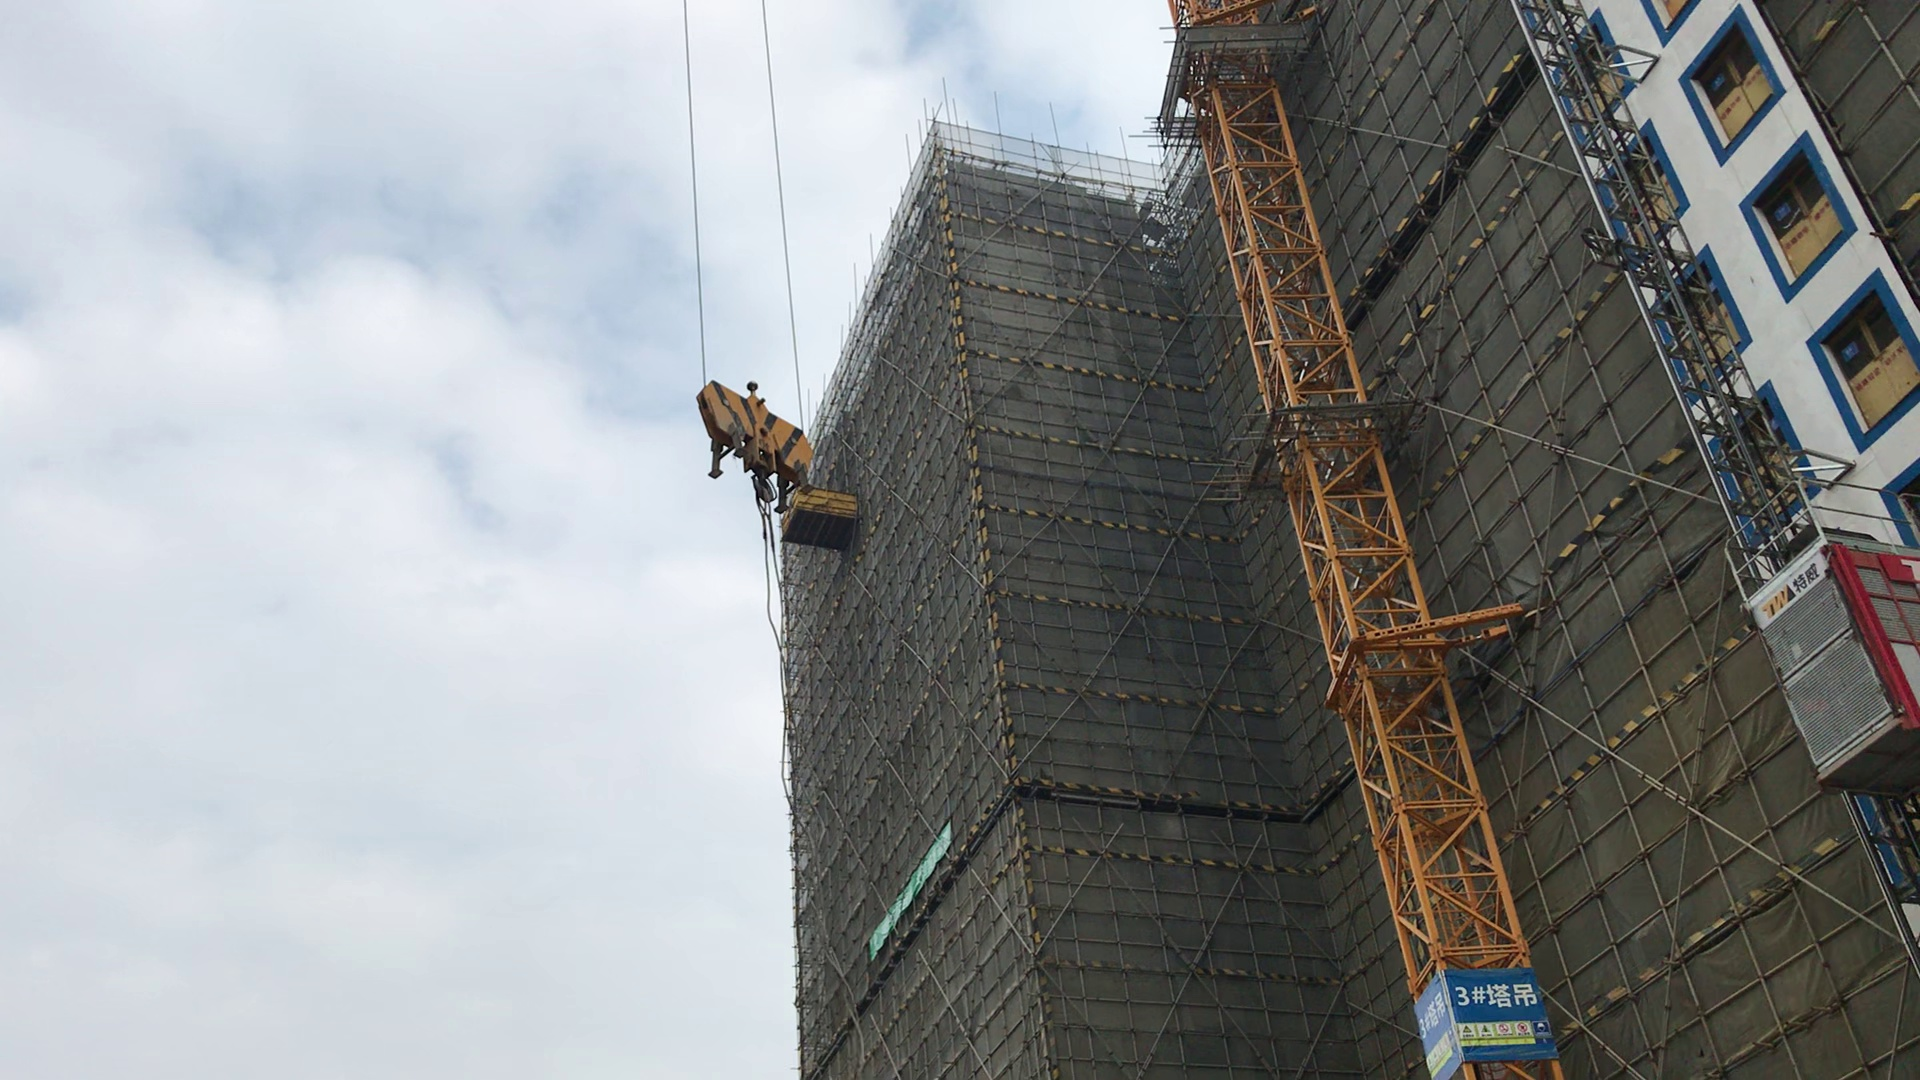hook: (688, 356, 831, 534)
